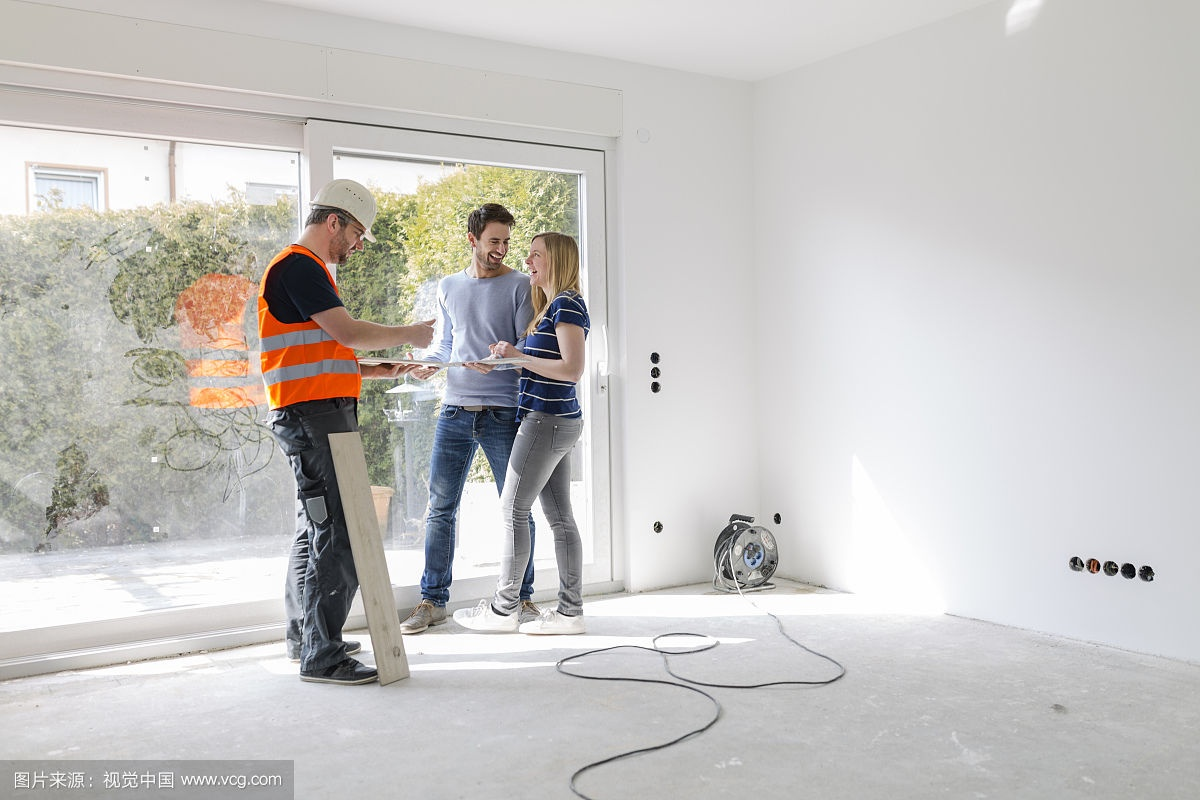none: (521, 227, 584, 293), (460, 201, 518, 271)
white: (299, 174, 382, 270)
